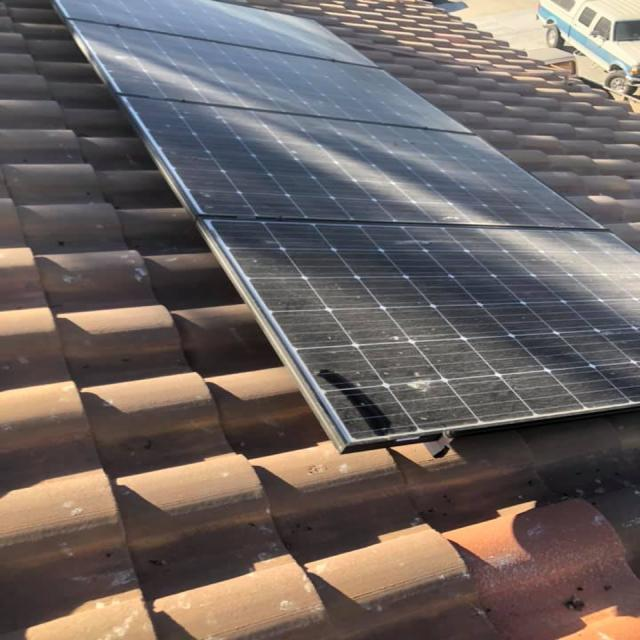dust-solar-panel: (61, 0, 640, 449)
